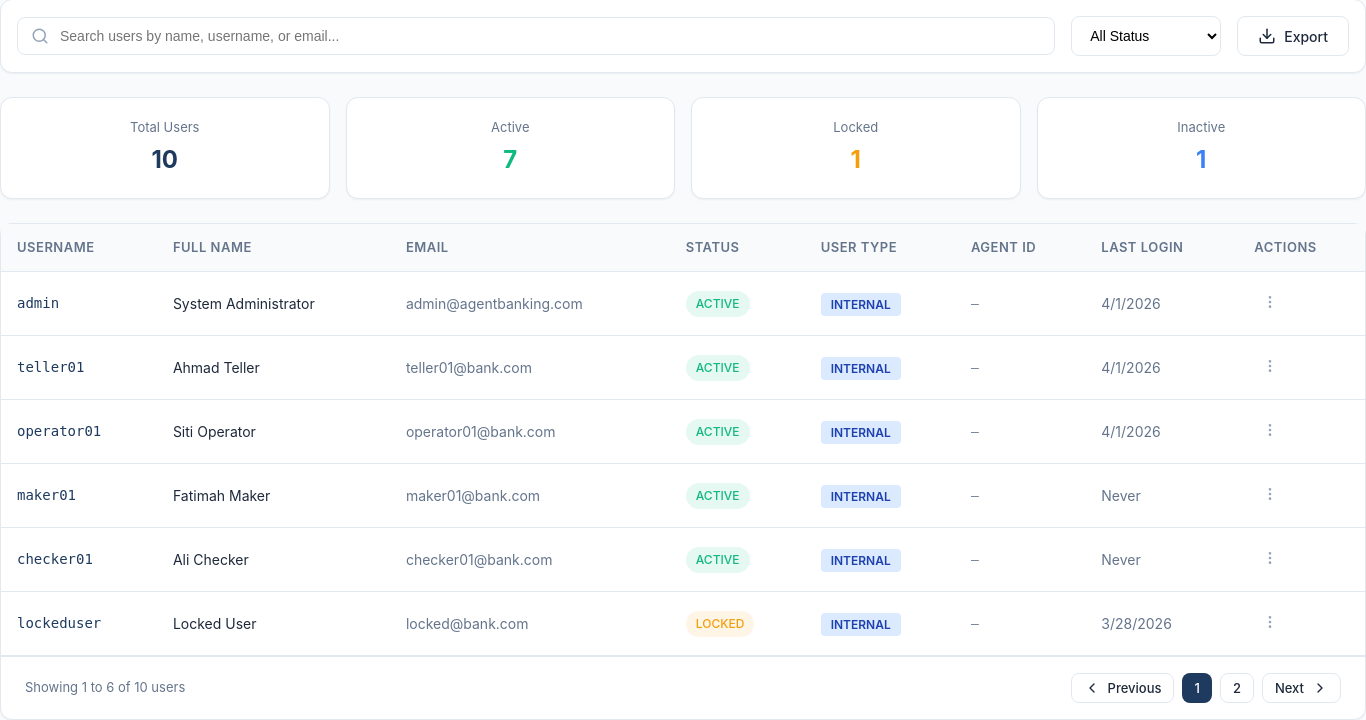
Test: UserManagement › should enable prev button after navigating to next page
The image size is (1366, 720).
(page scrolled)
Click the button with test id "next-page-button". click: (1301, 688)
box: top-left (1262, 673), bottom-right (1341, 703)
(page scrolled)
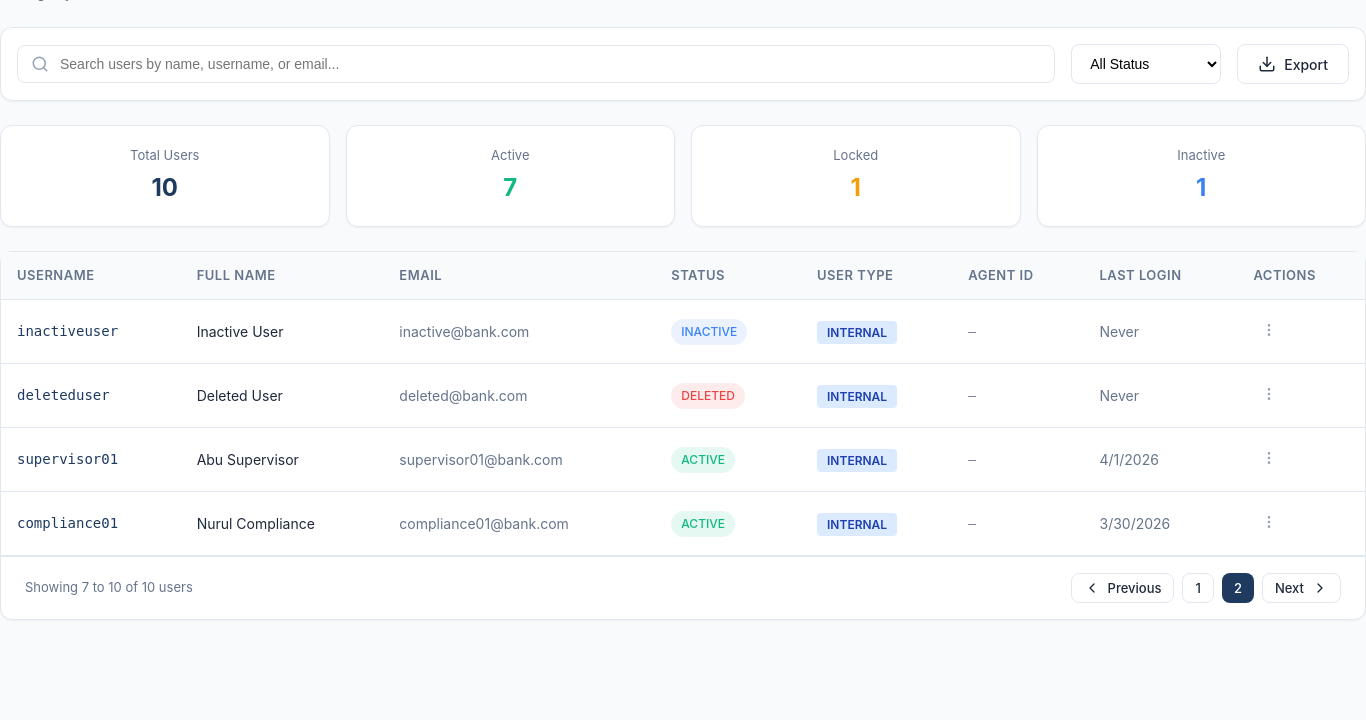
Expected: the button with test id "prev-page-button" is enabled, top-left (1070, 573), bottom-right (1174, 603)
